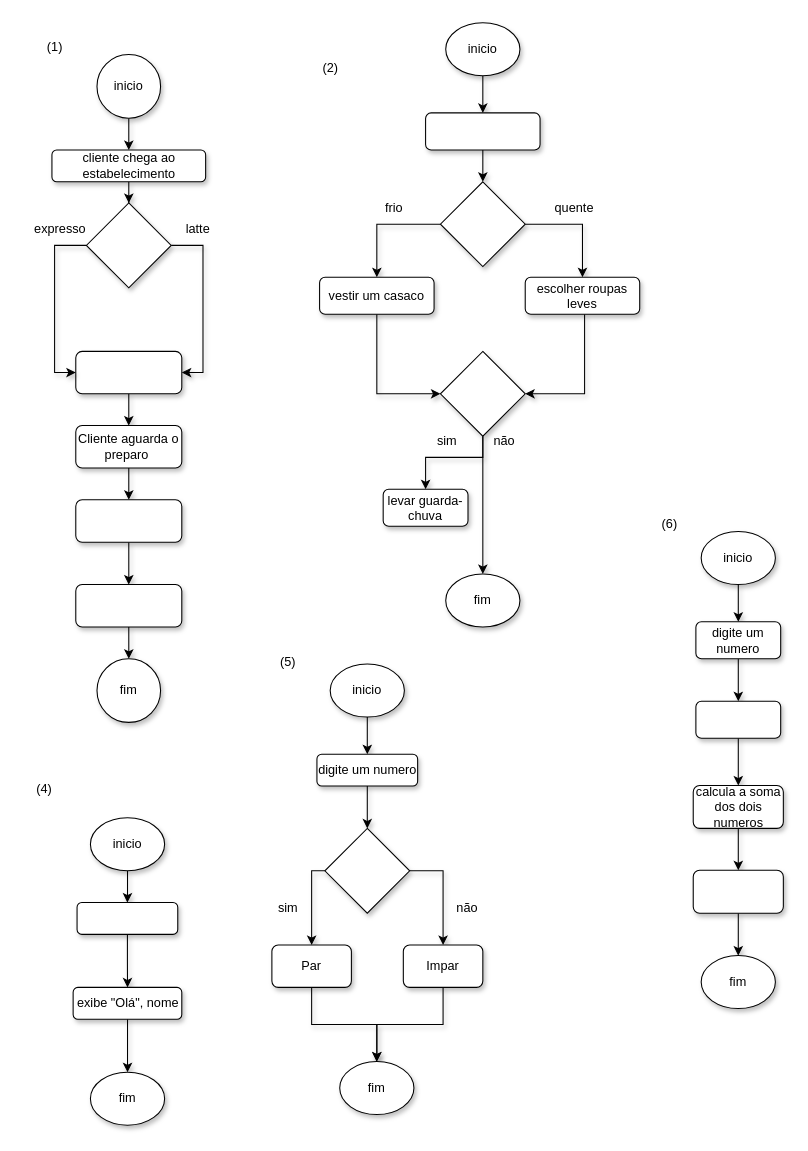
This 808x1151 diagram has some shape labels left out. The centre of each missing label's shape, as x and y in pixels:
"Café Expresso ou Latte?" goes at (129,246).
"Cliente paga a conta" goes at (129,606).
"cliente pede seu café" goes at (129,373).
"Cliente recebe o café" goes at (129,522).
"conferir o clima" goes at (483,132).
"digite outro numero" goes at (739,721).
"digite seu nome" goes at (128,919).
"está chovendo?" goes at (483,395).
"exibe resultado" goes at (739,893).
"o numero é divisivel por 2?" goes at (368,872).
"o tempo está quente ou frio?" goes at (483,225).
